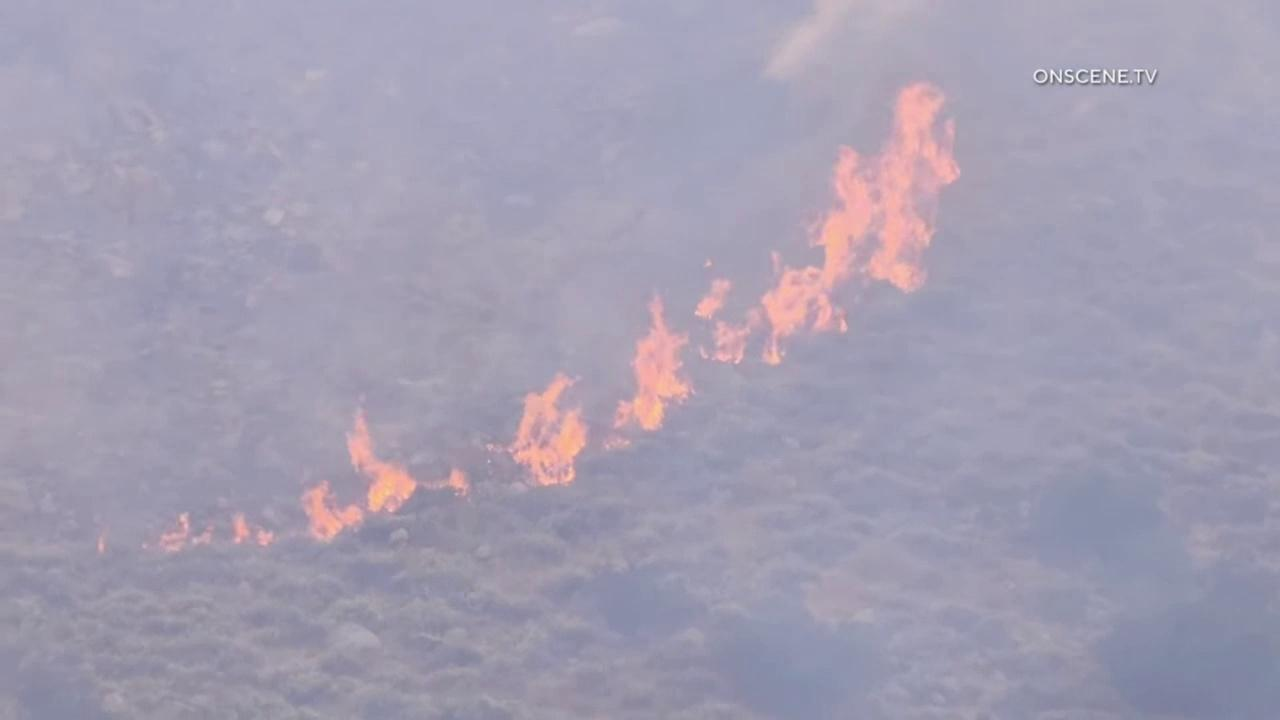fire: (154, 75, 969, 567), (89, 533, 110, 558), (1044, 14, 1064, 35)
smoke: (0, 0, 1280, 720)
